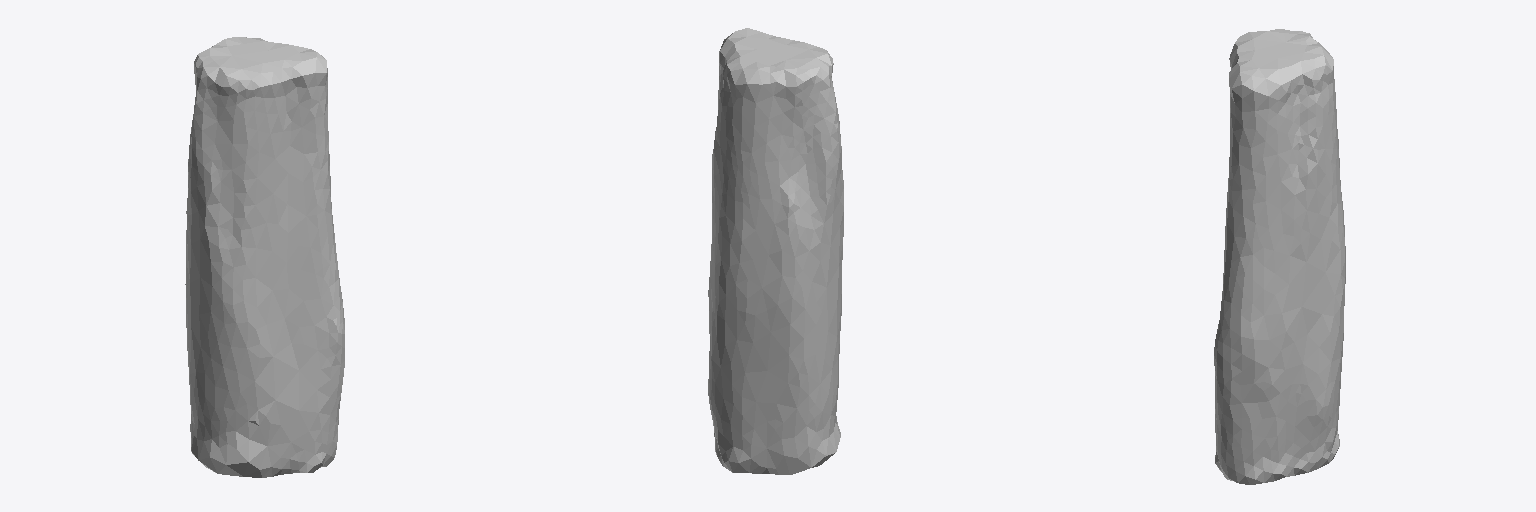
Rendered from RockPillars_3.obj.
The picture shows the model from 3 angles: view 1: azimuth 30°, elevation 25°; view 2: azimuth 150°, elevation 25°; view 3: azimuth 270°, elevation 25°; orthographic projection.
Parts seen in each view (by area): view 1: mesh04; view 2: mesh04; view 3: mesh04.
Part boxes in pixels (x1,y1,x2,y2): mesh04: (185, 37, 344, 477); mesh04: (708, 28, 843, 474); mesh04: (1214, 29, 1345, 484).
Size of the model in its own units: 14.53 by 42.09 by 12.32.